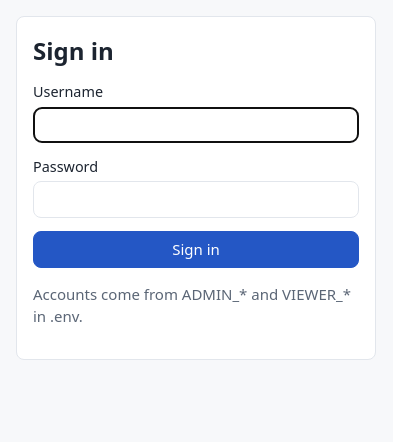
Test: login › says when the password is wrong
Type "vic" into the field labelled "Username" at point(196, 125), box left=33, top=107, right=359, bottom=143
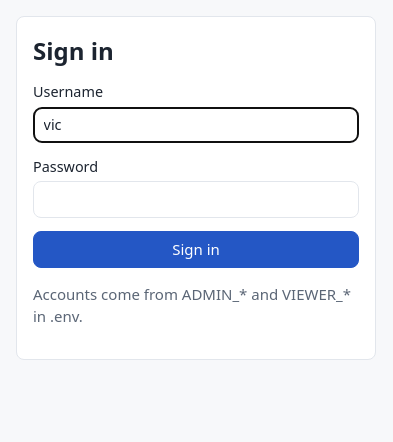
Type "nope" into the password field labelled "Password" at point(196, 200), box left=33, top=181, right=359, bottom=218
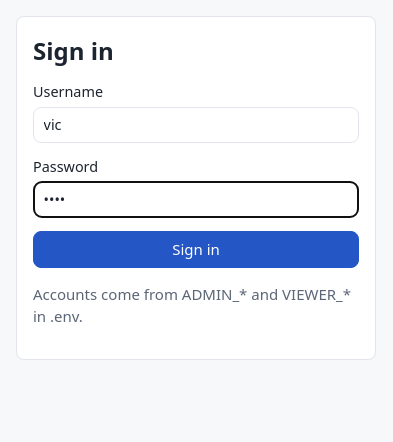
Click the button "Sign in" at point(196, 249), box left=33, top=230, right=359, bottom=268
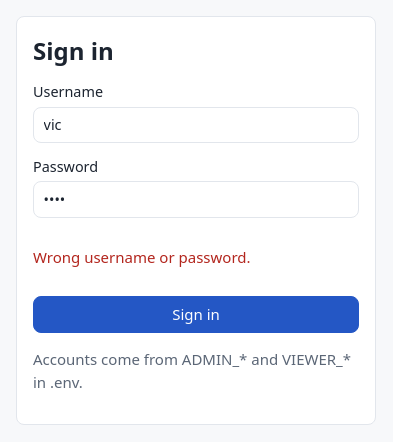
Now the message reads "Wrong username or password.", box left=33, top=246, right=250, bottom=266
